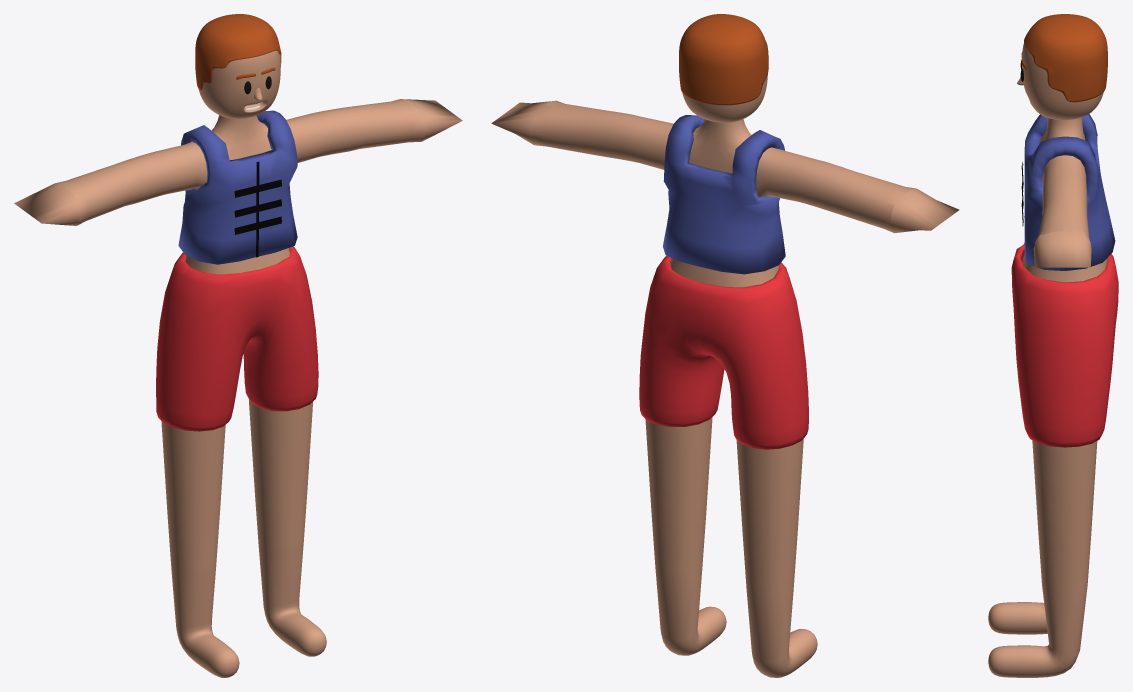
The model's file is NPC(red shorts).fbx.
The picture shows the model from 3 angles, left to right: view 1: azimuth 30°, elevation 25°; view 2: azimuth 150°, elevation 25°; view 3: azimuth 270°, elevation 25°; orthographic projection. The views are drawn at different scales.
Visible parts, largest first — view 1: body, SHORTS, body.001, Cube.005, Cube; view 2: body, SHORTS, body.001, Cube.005, Cube; view 3: body, SHORTS, body.001, Cube.005, Cube.
Part boxes in pixels (x1=…): body: x1=14, y1=99, x2=462, y2=677; SHORTS: x1=156, y1=246, x2=318, y2=431; body.001: x1=178, y1=110, x2=297, y2=264; Cube.005: x1=195, y1=14, x2=281, y2=90; Cube: x1=198, y1=50, x2=280, y2=118; body: x1=491, y1=100, x2=959, y2=677; SHORTS: x1=639, y1=255, x2=808, y2=449; body.001: x1=663, y1=115, x2=785, y2=274; Cube.005: x1=679, y1=14, x2=768, y2=105; Cube: x1=682, y1=74, x2=767, y2=122; body: x1=988, y1=117, x2=1107, y2=677; SHORTS: x1=1011, y1=244, x2=1118, y2=447; body.001: x1=1024, y1=114, x2=1115, y2=270; Cube.005: x1=1024, y1=14, x2=1107, y2=102; Cube: x1=1022, y1=44, x2=1103, y2=120.
Size of the model in its own units: 190 by 269 by 50.16.
